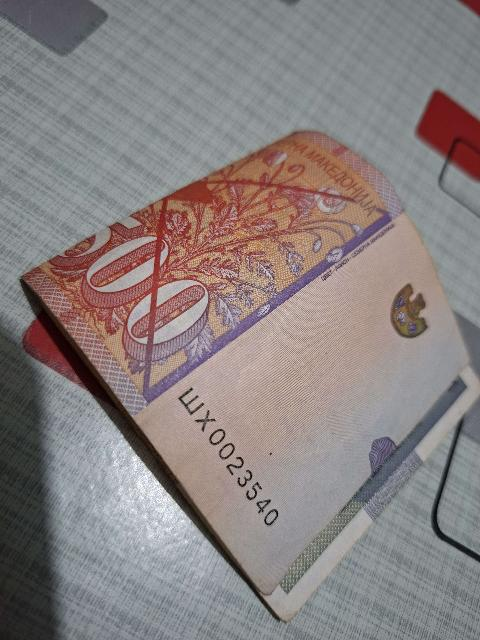500_note: (24, 132, 476, 619)
